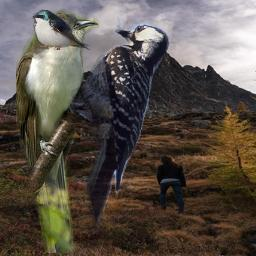Cuckoo: (16, 5, 99, 253)
Swallow: (31, 9, 91, 50)
Woodpecker: (68, 14, 170, 237)
